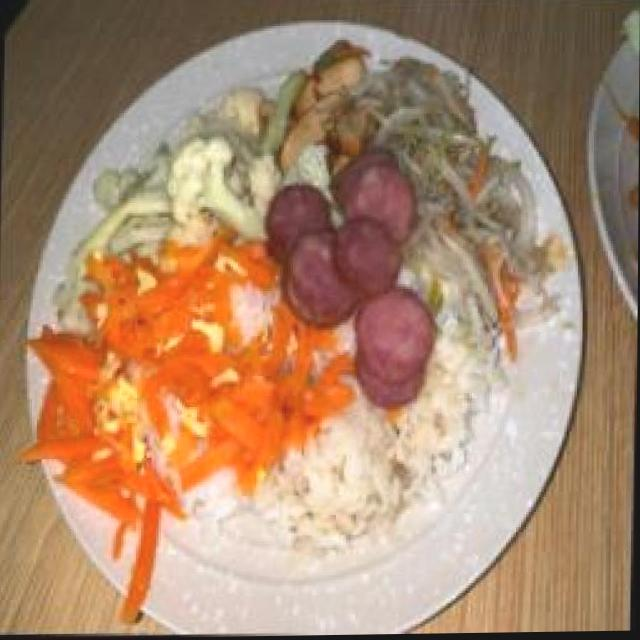carrot_eggs: (22, 242, 287, 508)
chinese_sausage: (263, 145, 439, 412)
mung_bean_sprouts: (356, 57, 558, 282)
rice: (295, 389, 516, 562)
